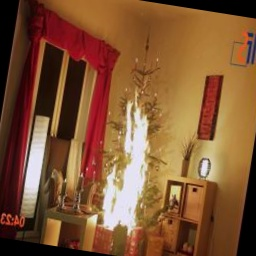fire: (88, 88, 168, 236)
